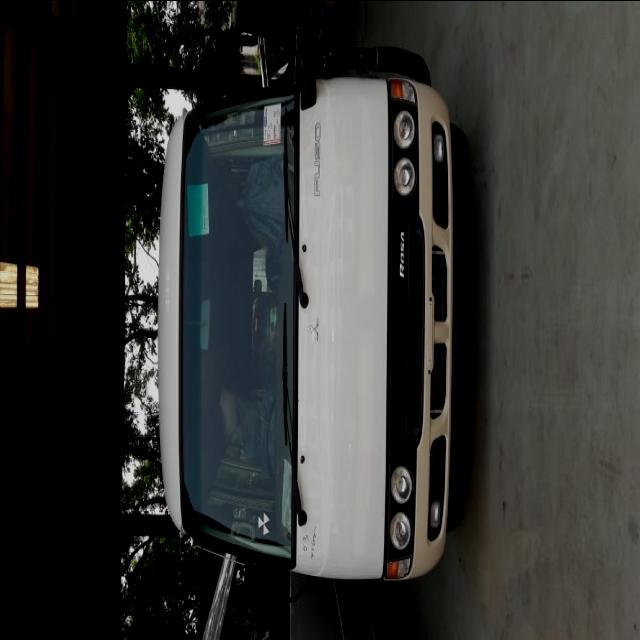bus: (135, 1, 487, 607)
